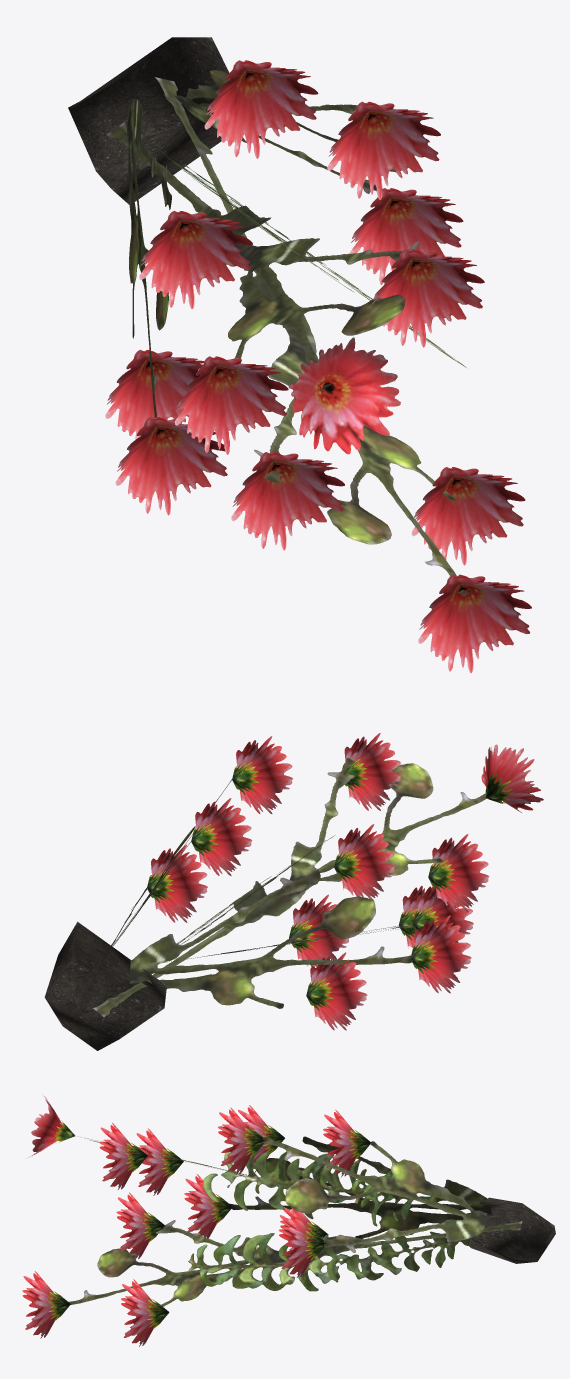
Rendered from com_flower_red2_LOD0.obj.
The picture shows the model from 3 angles, top to bottom: view 1: azimuth 30°, elevation 25°; view 2: azimuth 150°, elevation 25°; view 3: azimuth 270°, elevation 25°; orthographic projection. The views are drawn at different scales.
Parts seen in each view (by area): view 1: mtl_gardenflowers, mtl_plastic_bucket_soil; view 2: mtl_gardenflowers, mtl_plastic_bucket_soil; view 3: mtl_gardenflowers, mtl_plastic_bucket_soil.
Part boxes in pixels (x1,y1,x2,y2): mtl_gardenflowers: (105,60,531,672); mtl_plastic_bucket_soil: (68,37,229,204); mtl_gardenflowers: (69,733,543,1030); mtl_plastic_bucket_soil: (44,921,166,1050); mtl_gardenflowers: (22,1095,522,1346); mtl_plastic_bucket_soil: (466,1197,555,1263).
Size of the model in its own units: 29.9 by 29.99 by 55.48.
